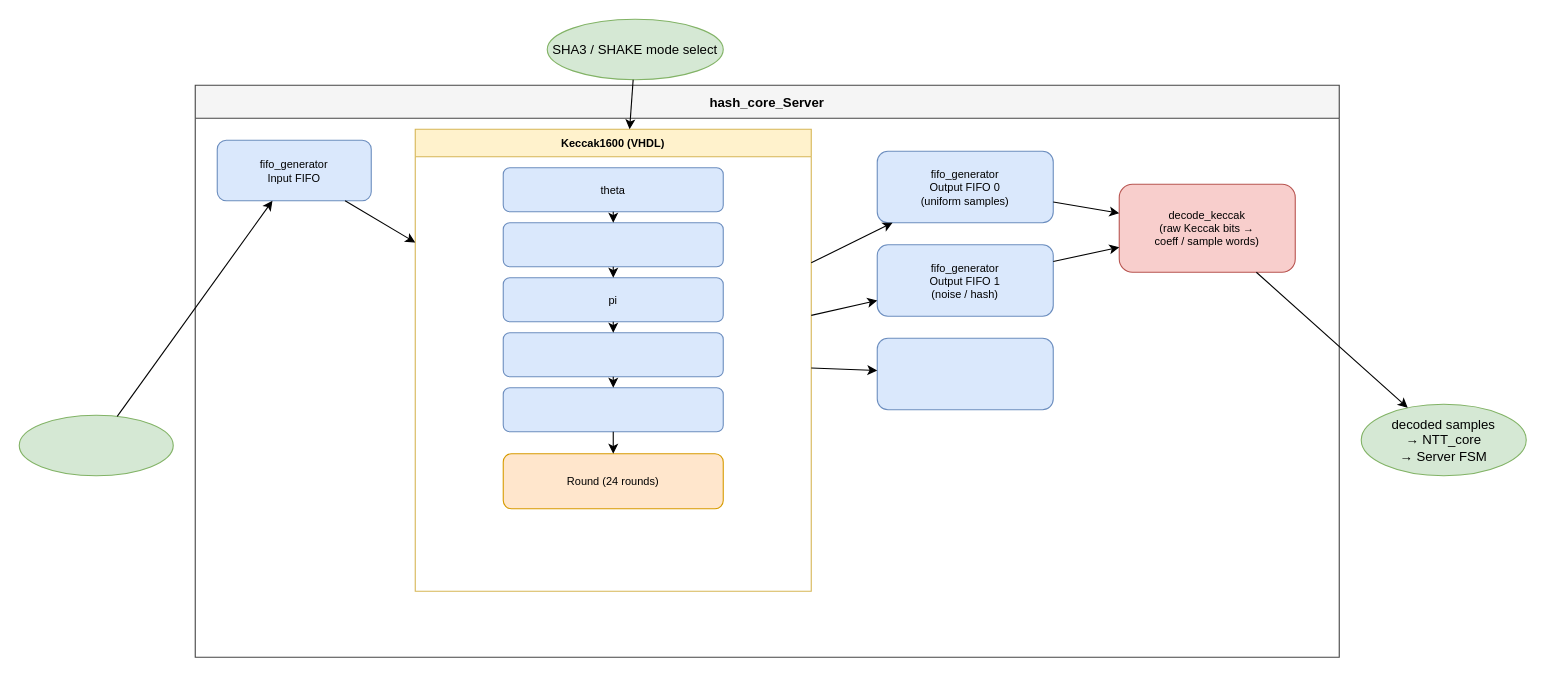
Some shapes in this 1546 by 677 pixel diagram are drawn without their labels. The centre of each missing label's shape, as x and y in pixels:
chi: the point at 612,354
din from Server FSM: the point at 95,445
fifo_generator Internal FIFO: the point at 964,373
iota: the point at 612,409
rho: the point at 612,244
